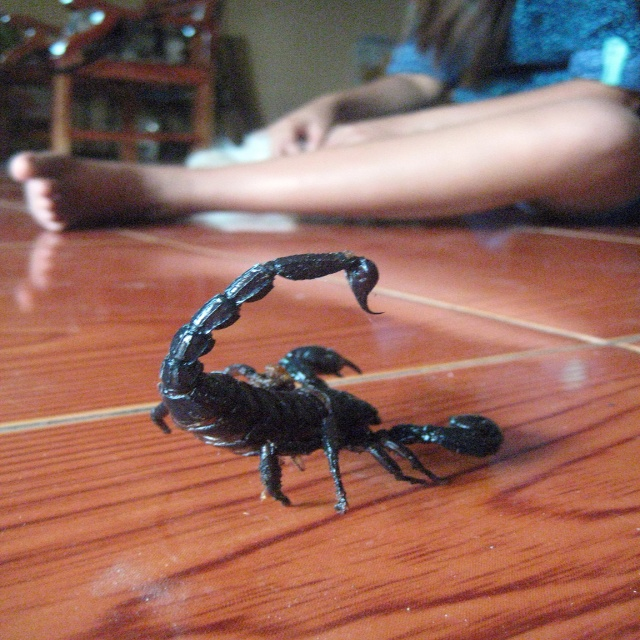Scorpion: (146, 248, 507, 518)
